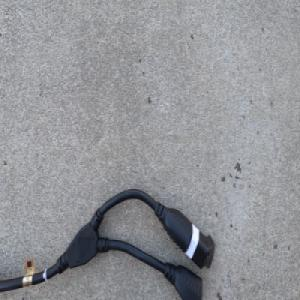Wire: (0, 188, 215, 300)
